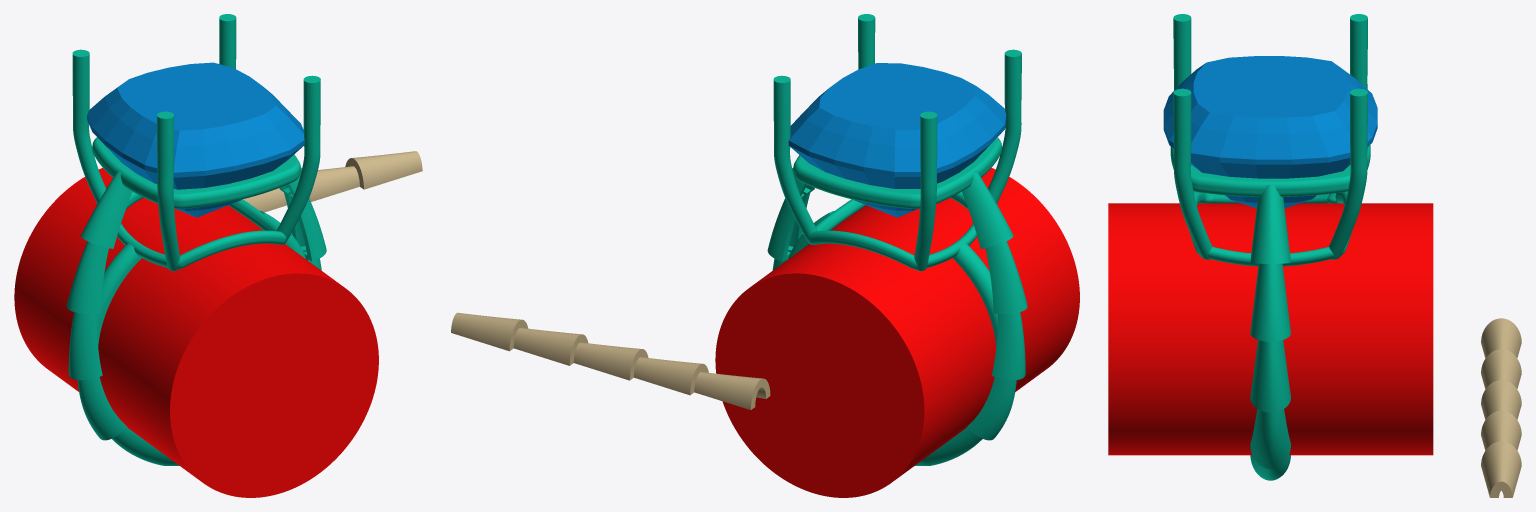
3 renders of one model, left to right at view 1: azimuth 30°, elevation 25°; view 2: azimuth 150°, elevation 25°; view 3: azimuth 270°, elevation 25°, orthographic. The views are drawn at different scales.
Parts seen in each view (by area): view 1: anel.3dm, Gem_Cushion; view 2: anel.3dm, Gem_Cushion; view 3: anel.3dm, Gem_Cushion.
Part boxes in pixels (x1,y1,x2,y2): anel.3dm: (14,14,422,497); Gem_Cushion: (87,62,304,217); anel.3dm: (451,14,1079,497); Gem_Cushion: (788,63,1006,217); anel.3dm: (1108,14,1521,497); Gem_Cushion: (1163,56,1377,208).
Size of the model in its own units: 3.75 by 3.09 by 2.8.
